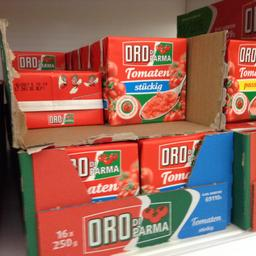tomato_sauce: (88, 36, 186, 124), (12, 69, 102, 128), (138, 130, 208, 190)
